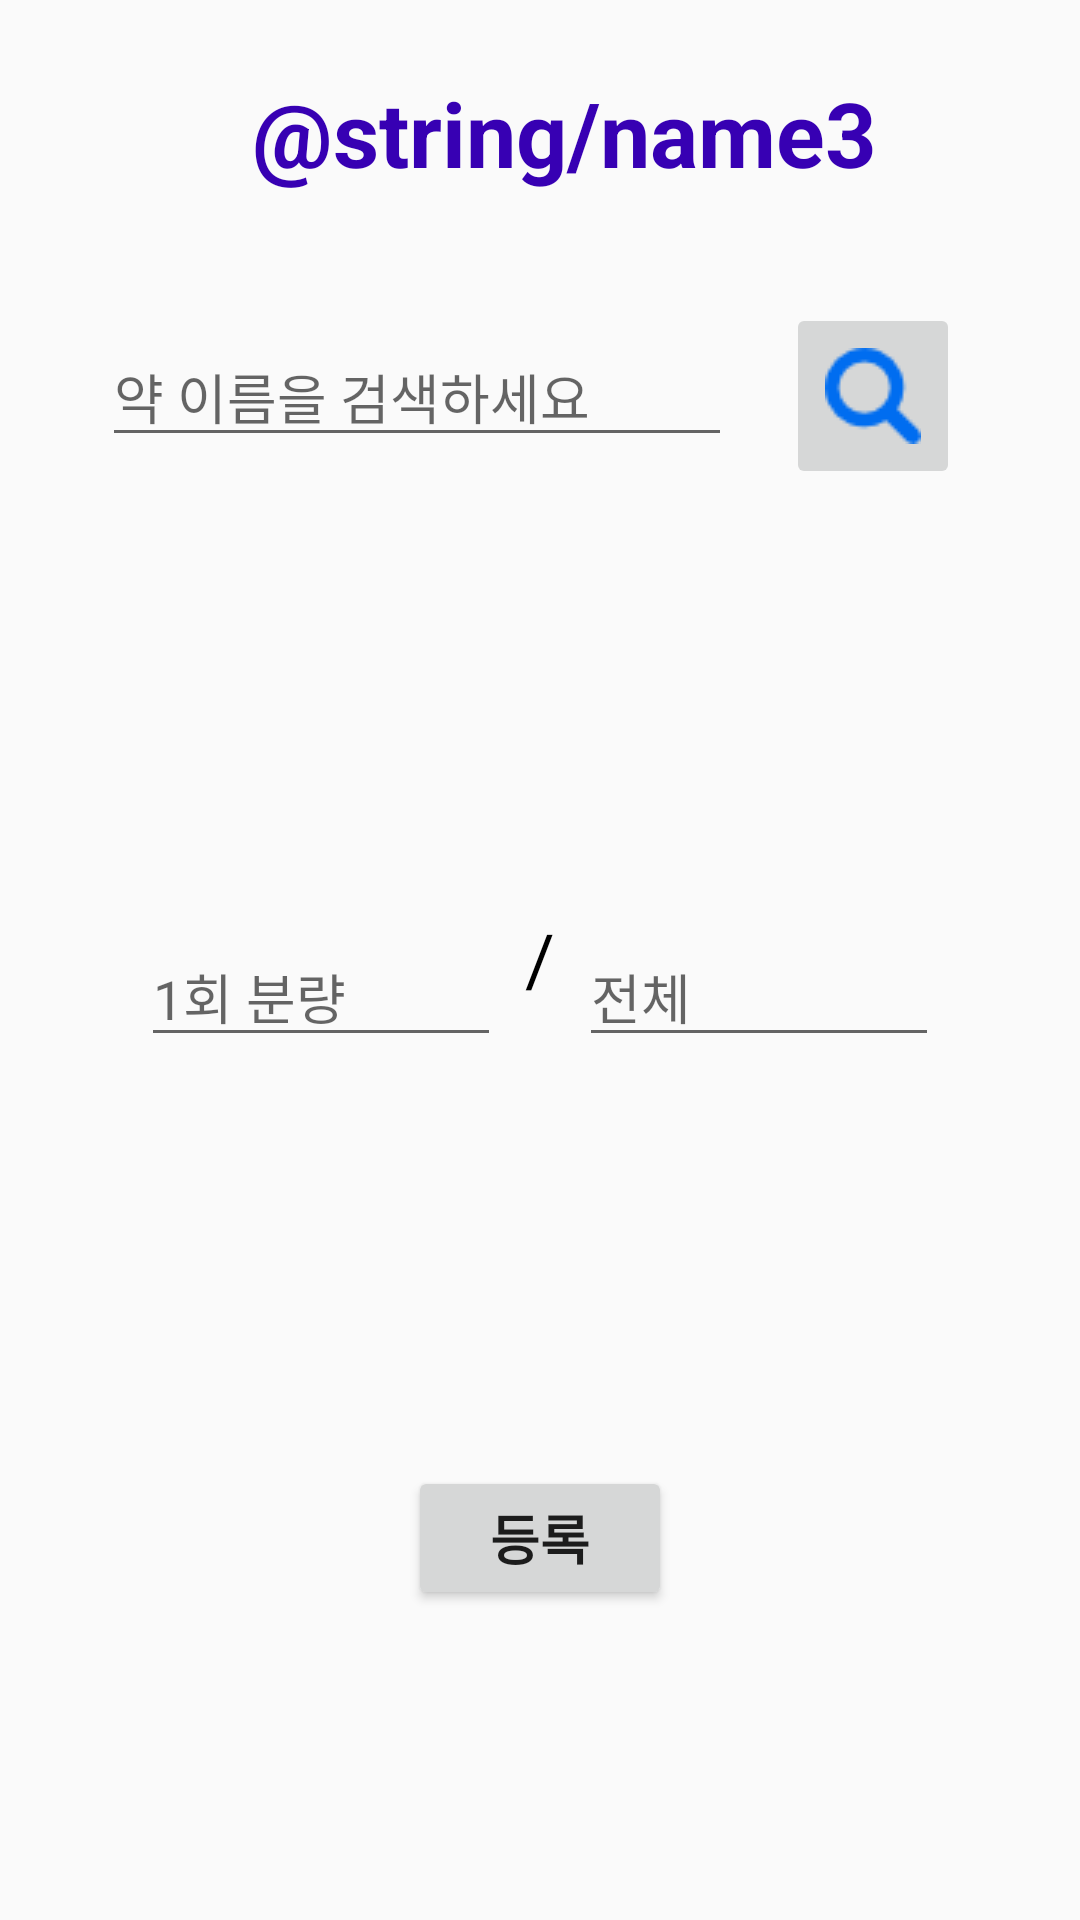

Locate icon controls on the screen. Image size 1080×1920, boxes as (x1, y1, x2, y2).
search: (798, 321, 948, 471)
